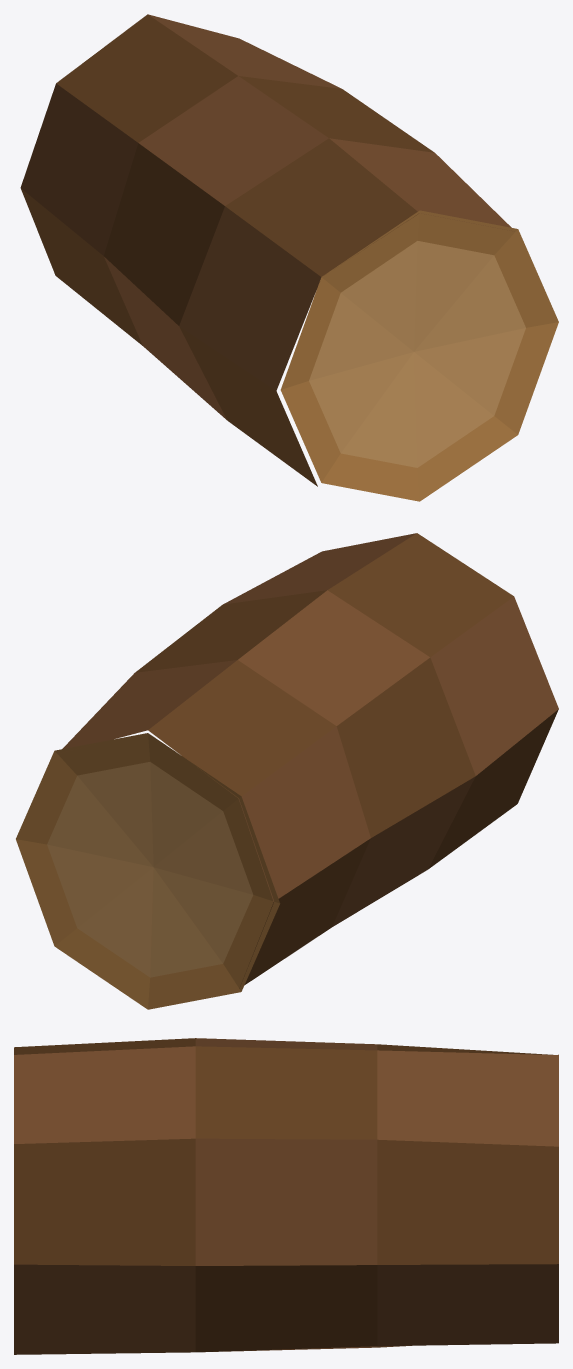
Rendered from pine_log.glb.
The picture shows the model from 3 angles, top to bottom: view 1: azimuth 30°, elevation 25°; view 2: azimuth 150°, elevation 25°; view 3: azimuth 270°, elevation 25°; orthographic projection.
Parts seen in each view (by area): view 1: pine_log; view 2: pine_log; view 3: pine_log.
Part boxes in pixels (x1,y1,x2,y2): pine_log: (20,14,558,501); pine_log: (16,533,558,1009); pine_log: (14,1038,558,1354).
Bounding box in the file's own units: 0.7369 × 0.7324 × 1.2.
